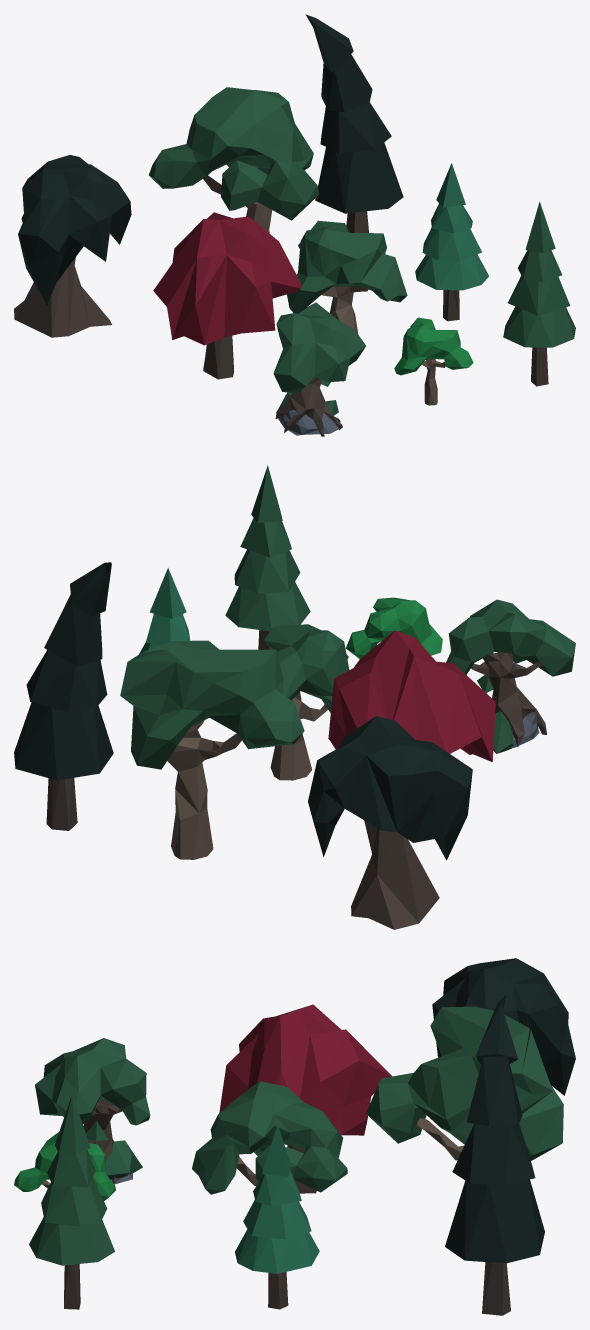
The model's file is trees.fbx.
The picture shows the model from 3 angles, top to bottom: view 1: azimuth 30°, elevation 25°; view 2: azimuth 150°, elevation 25°; view 3: azimuth 270°, elevation 25°; orthographic projection. The views are drawn at different scales.
Parts seen in each view (by area): view 1: tree2.002, tree1.001, tree1.002, tree3.002, tree1, tree2.001, tree3, tree3.001, tree2; view 2: tree1.002, tree2.002, tree3.002, tree1.001, tree1, tree3, tree2.001, tree2, tree3.001; view 3: tree3.002, tree2.002, tree1.001, tree2.001, tree1, tree3, tree1.002, tree3.001, tree2.
Part boxes in pixels (<box>): tree2.002: <box>149,87,319,233</box>; tree1.001: <box>153,212,301,379</box>; tree1.002: <box>14,155,131,337</box>; tree3.002: <box>305,14,403,232</box>; tree1: <box>273,302,365,436</box>; tree2.001: <box>287,220,407,333</box>; tree3: <box>503,201,575,386</box>; tree3.001: <box>415,163,488,321</box>; tree2: <box>394,317,473,405</box>; tree1.002: <box>308,716,472,929</box>; tree2.002: <box>120,640,304,859</box>; tree3.002: <box>14,562,113,830</box>; tree1.001: <box>328,630,495,761</box>; tree1: <box>446,599,575,753</box>; tree3: <box>225,465,310,649</box>; tree2.001: <box>264,624,349,780</box>; tree2: <box>345,597,442,658</box>; tree3.001: <box>139,568,190,654</box>; tree3.002: <box>445,995,544,1315</box>; tree2.002: <box>366,1006,563,1160</box>; tree1.001: <box>219,1004,392,1193</box>; tree2.001: <box>192,1081,347,1194</box>; tree1: <box>35,1038,150,1184</box>; tree3: <box>29,1094,114,1309</box>; tree1.002: <box>432,958,575,1095</box>; tree3.001: <box>235,1125,319,1309</box>; tree2: <box>14,1132,115,1200</box>.
Bounding box in the file's own units: 25 × 15.55 × 26.93.
